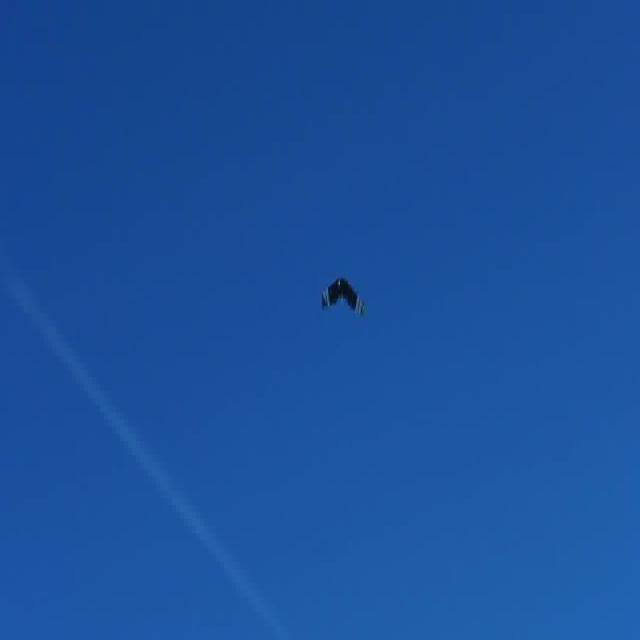iha: (318, 296, 371, 298)
